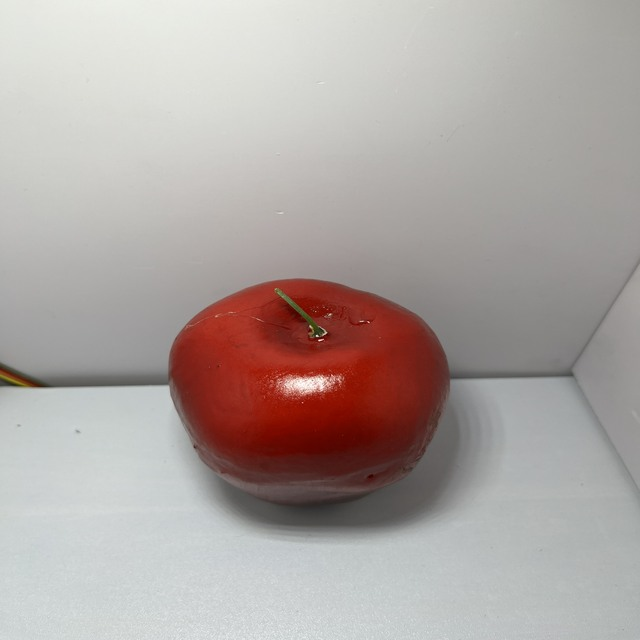Tao: (159, 271, 466, 515)
